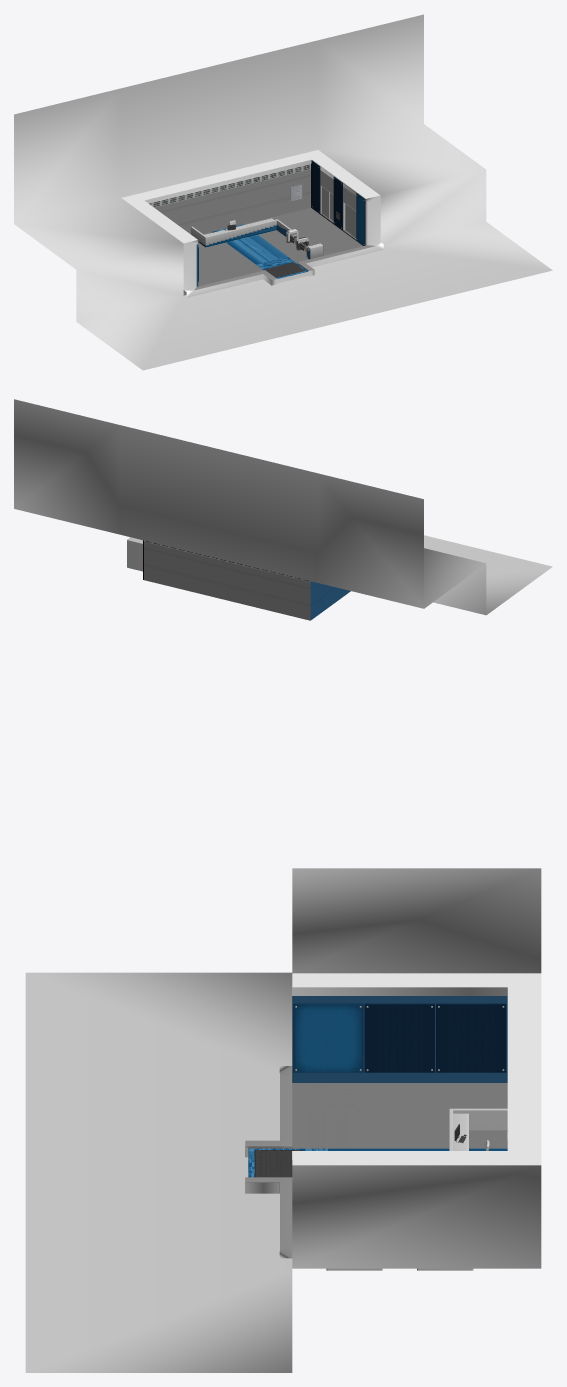
Rendered from a_com_building_a04.gltf.
3 views of the same model, one above another, from view 1: azimuth 30°, elevation 25°; view 2: azimuth 150°, elevation 25°; view 3: azimuth 270°, elevation 25° (orthographic). The views are drawn at different scales.
Visible parts, largest first — view 1: a_com_building_a04_outsideblank01_mesh_shape:a_com_building_, um_a_com_building_a04_model_a_com_building_a04_modelShape:a_ (×10), nomerge_outside_edge_shape:mat_texture_edge02, a_com_building_a04_outsideroof01_mesh_shape:a_com_building_a; view 2: a_com_building_a04_outsideblank01_mesh_shape:a_com_building_, um_a_com_building_a04_model_a_com_building_a04_modelShape:a_ (×4); view 3: a_com_building_a04_outsideblank01_mesh_shape:a_com_building_, um_a_com_building_a04_model_a_com_building_a04_modelShape:a_ (×7), a_com_building_a04_outsideroof01_mesh_shape:a_com_building_a, nomerge_outside_edge_shape:mat_texture_edge02.
Boxes of the visible parts, x1,y1,x2,y2 form: a_com_building_a04_outsideblank01_mesh_shape:a_com_building_: [14, 14, 552, 370]; um_a_com_building_a04_model_a_com_building_a04_modelShape:a_ (×10): [149, 160, 375, 295]; nomerge_outside_edge_shape:mat_texture_edge02: [144, 159, 383, 297]; a_com_building_a04_outsideroof01_mesh_shape:a_com_building_a: [122, 150, 379, 243]; a_com_building_a04_outsideblank01_mesh_shape:a_com_building_: [14, 399, 552, 615]; um_a_com_building_a04_model_a_com_building_a04_modelShape:a_ (×4): [127, 537, 350, 620]; a_com_building_a04_outsideblank01_mesh_shape:a_com_building_: [25, 868, 541, 1372]; um_a_com_building_a04_model_a_com_building_a04_modelShape:a_ (×7): [245, 987, 507, 1257]; a_com_building_a04_outsideroof01_mesh_shape:a_com_building_a: [292, 973, 541, 1165]; nomerge_outside_edge_shape:mat_texture_edge02: [245, 987, 507, 1258].
Size of the model in its own units: 38.42 by 14.48 by 20.91.
21 materials, 18 textured.
